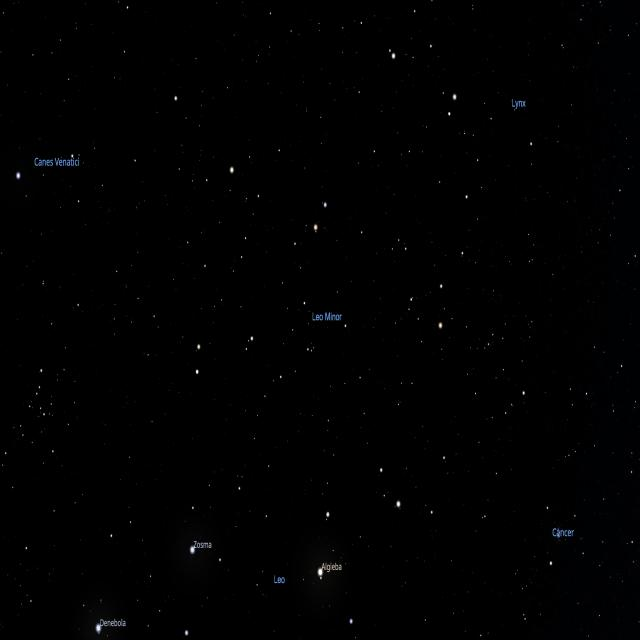Leo Minor: (246, 291, 414, 356)
